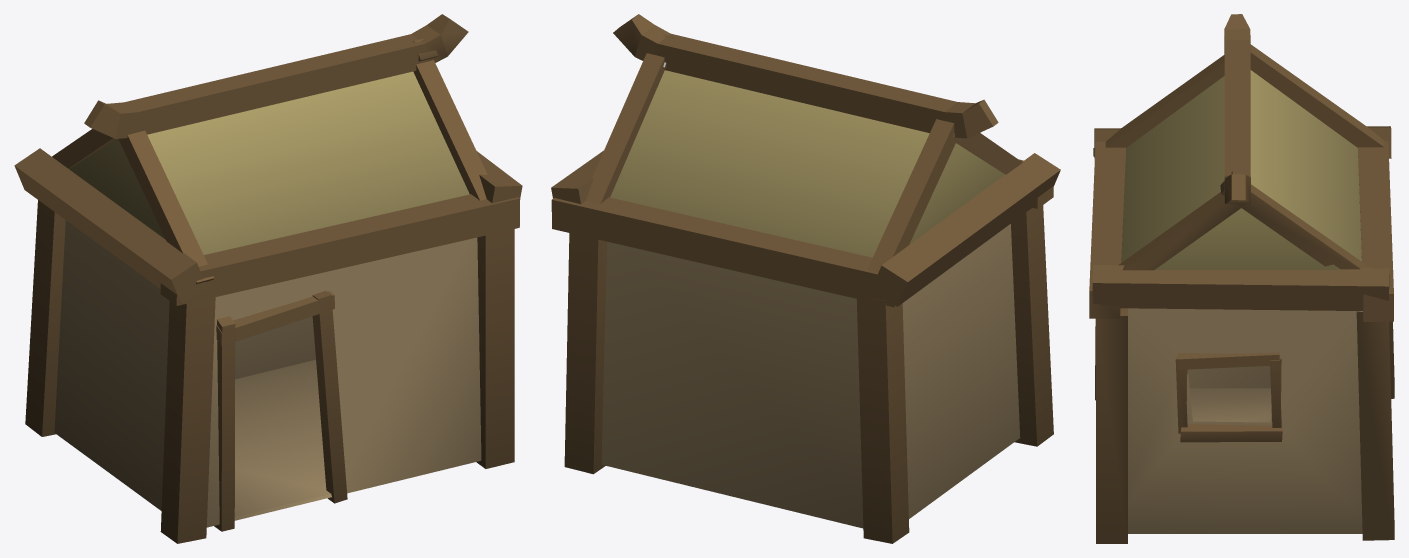
File: house.fbx
3 views of the same model, side by side, from view 1: azimuth 30°, elevation 25°; view 2: azimuth 150°, elevation 25°; view 3: azimuth 270°, elevation 25° (orthographic). The views are drawn at different scales.
Visible parts, largest first — view 1: house.001; view 2: house.001; view 3: house.001.
Part boxes in pixels (box(x1,y1,x2,y2)): house.001: box(14, 14, 522, 543); house.001: box(551, 14, 1060, 543); house.001: box(1089, 14, 1394, 543).
Bounding box in the file's own units: 6.37 × 6.27 × 4.65.
